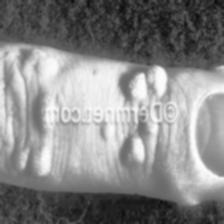Toxin: (128, 64, 170, 103), (21, 44, 60, 74), (124, 134, 148, 167), (30, 145, 53, 178)
